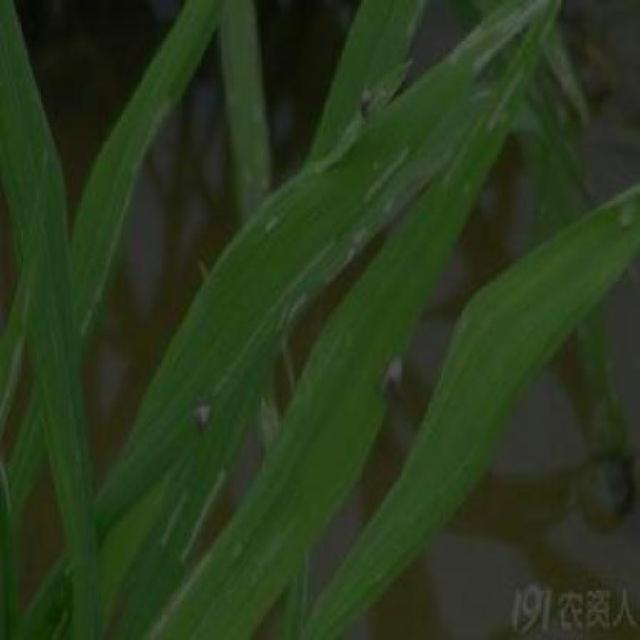rice-bug: (380, 354, 405, 398), (196, 398, 215, 429), (357, 90, 377, 116)
